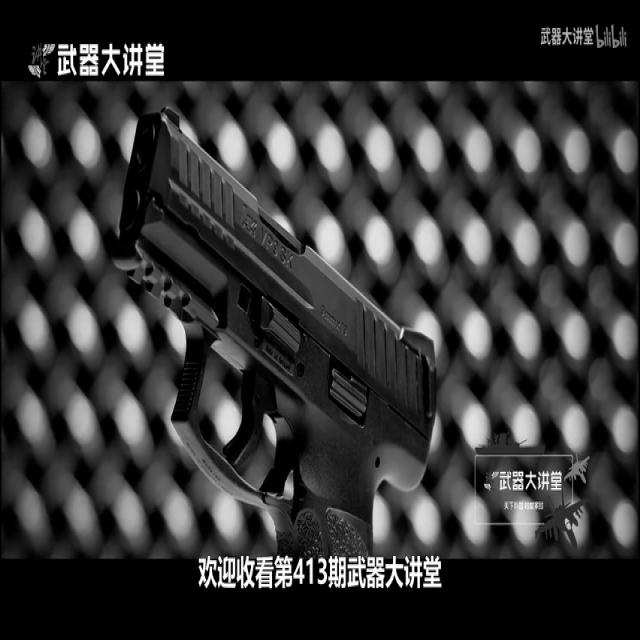Hand-Gun: (111, 85, 457, 574)
